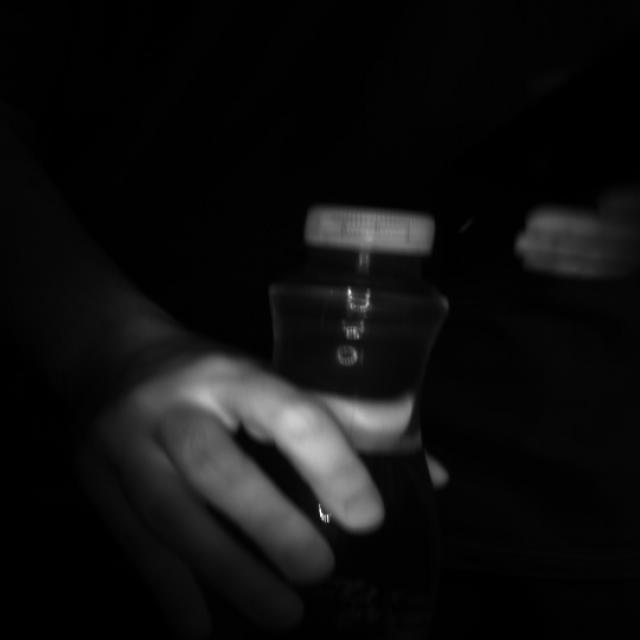Good: (304, 207, 438, 258)
